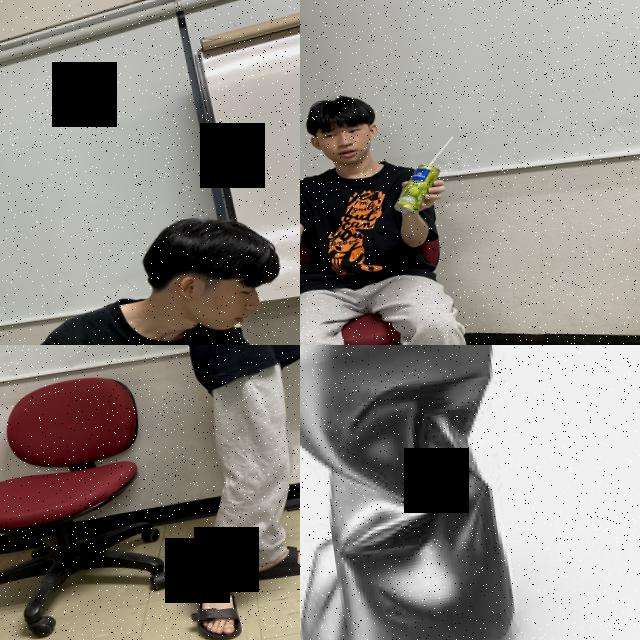can: (389, 161, 446, 218)
